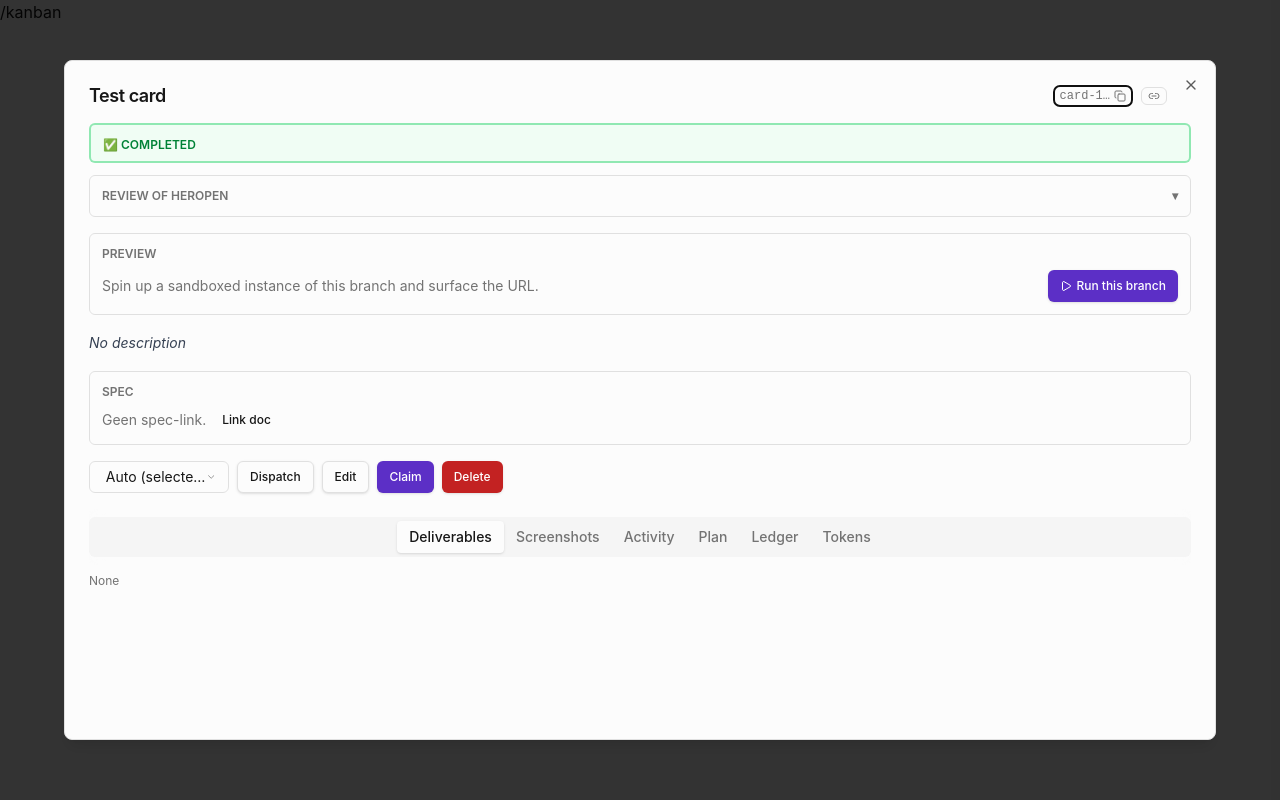
Test: CardDrawer feedback control › renders the already-requested-review state and keeps the Reopen button available
This screenshot has width=1280, height=800.
Click the button with test id "done-actions-toggle". click: (165, 196)
box: [102,188,1178,204]
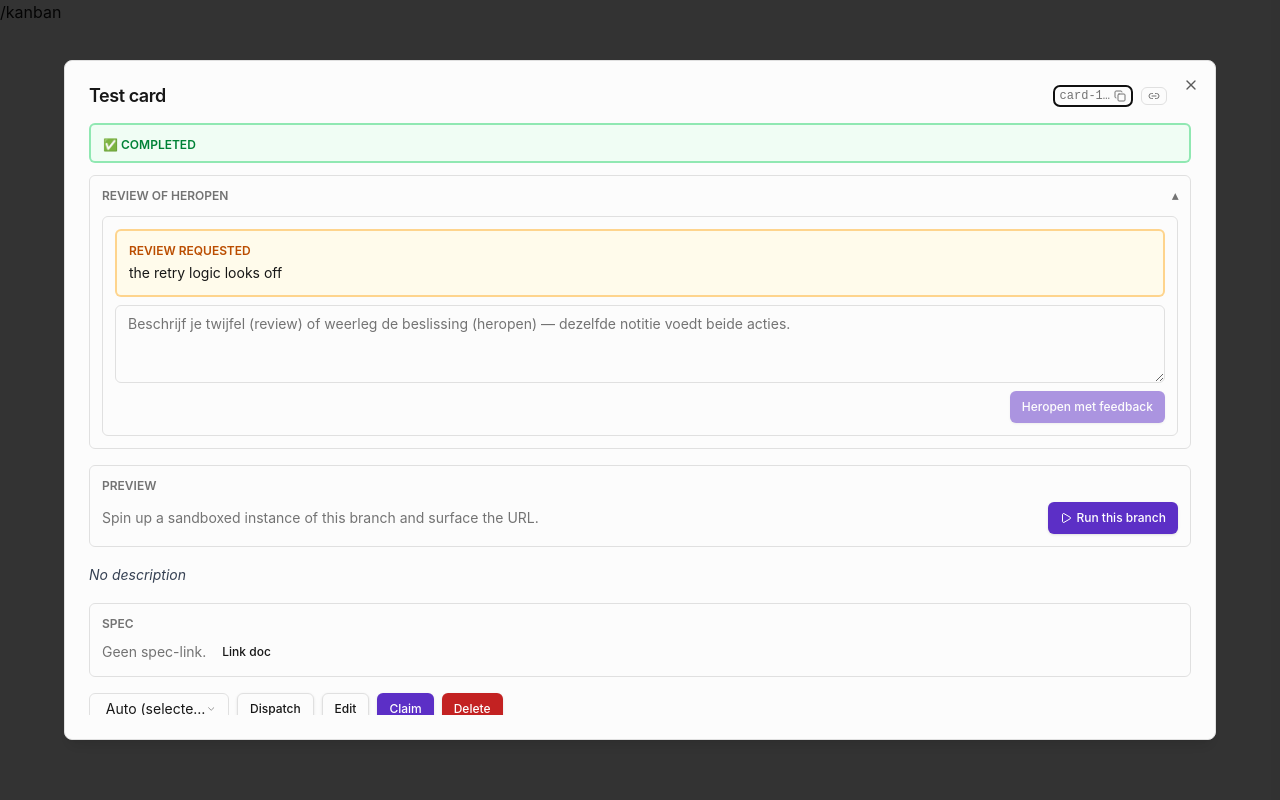
expect the element with test id "review-requested-state" shows "the retry logic looks off": met, box [129,264,282,281]
expect the button with test id "feedback-submit-reopen" is shown: met, box [1010,391,1165,423]
